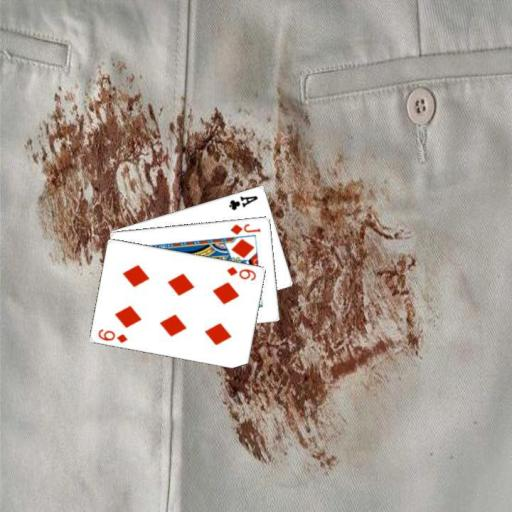6D: (224, 263, 257, 282), (96, 326, 130, 344)
AC: (226, 192, 260, 211)
JD: (227, 221, 262, 236)
